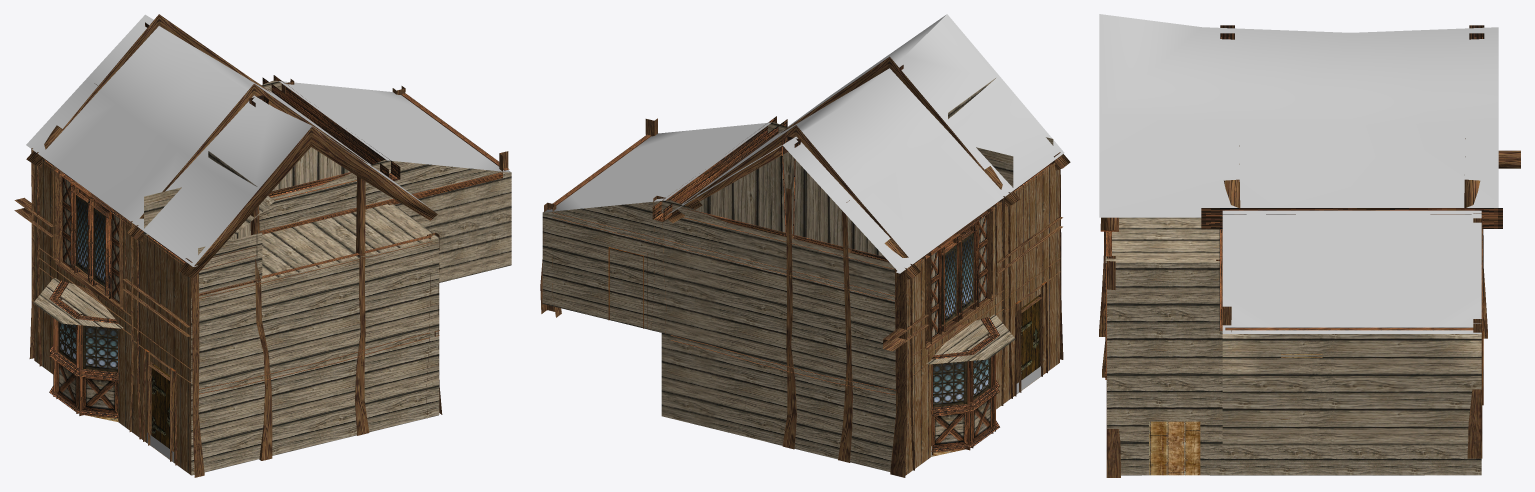
The model's file is LAKETOWN_GRANDMA_PS_GM_MAIN_SHELL96968__GX.obj.
3 views of the same model, side by side, from view 1: azimuth 30°, elevation 25°; view 2: azimuth 150°, elevation 25°; view 3: azimuth 270°, elevation 25° (orthographic). The views are drawn at different scales.
Parts seen in each view (by area): view 1: _Shell96968__GX; view 2: _Shell96968__GX; view 3: _Shell96968__GX.
Part boxes in pixels (x1,y1,x2,y2): _Shell96968__GX: [14, 14, 511, 477]; _Shell96968__GX: [540, 14, 1070, 477]; _Shell96968__GX: [1099, 14, 1520, 477].
Size of the model in its own units: 1232 by 922 by 912.
